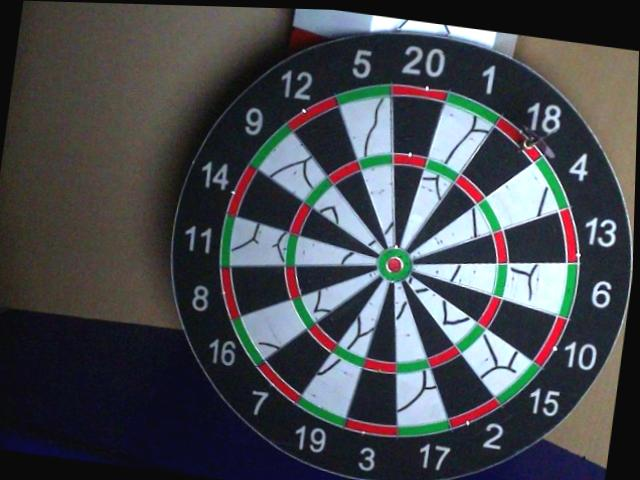single_18: (461, 127, 536, 197)
